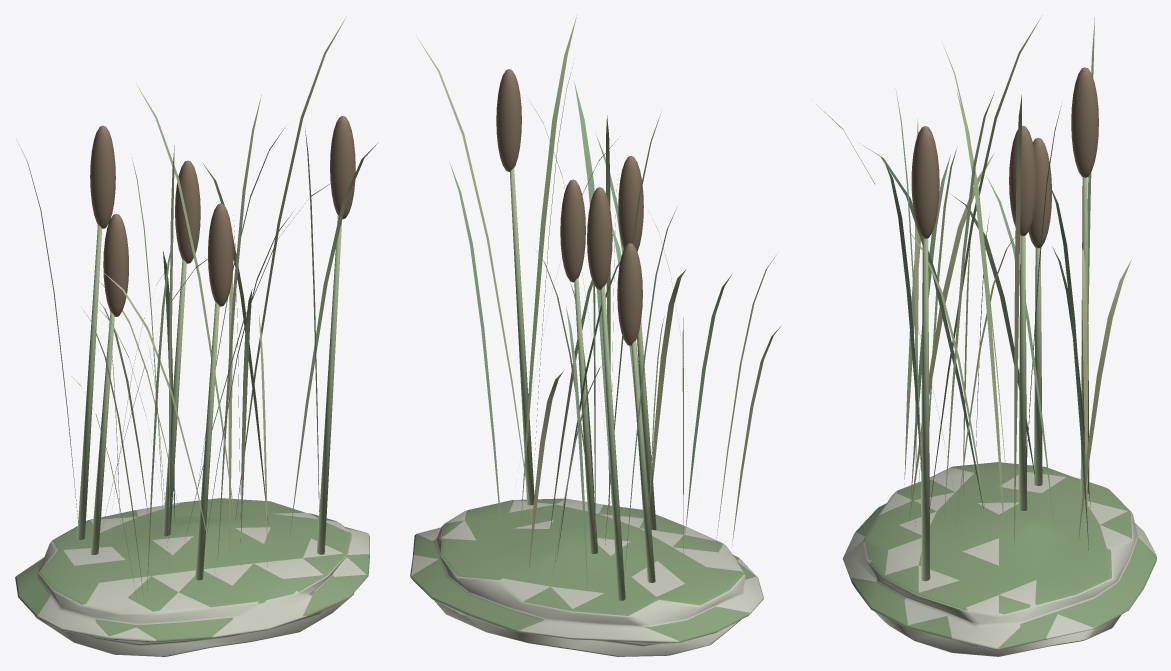
File: reeds.glb
3 renders of one model, left to right at view 1: azimuth 30°, elevation 25°; view 2: azimuth 150°, elevation 25°; view 3: azimuth 270°, elevation 25°, orthographic. The views are drawn at different scales.
Visible parts, largest first — view 1: Reed base, Cattail stalk.004, Cattail stalk.003, Cattail seed.003, Cattail seed.001, Cattail seed.002, Cattail seed.004, Cattail seed, Cattail stalk.001, Cattail stalk, Cattail stalk.002, Curved reed.016 (+12 smaller); view 2: Reed base, Cattail stalk.004, Cattail stalk.003, Cattail seed.004, Cattail seed, Cattail seed.002, Cattail seed.003, Curved reed.016, Cattail seed.001, Cattail stalk, Cattail stalk.002, Cattail stalk.001 (+11 smaller); view 3: Reed base, Cattail stalk.004, Cattail seed.003, Cattail seed.004, Cattail seed, Cattail stalk, Curved reed.002, Curved reed.022, Cattail stalk.002, Cattail seed.002, Cattail stalk.003, Curved reed.003 (+16 smaller).
Boxes of the visible parts, x1,y1,x2,y2 form: Reed base: (15,498,369,656); Cattail stalk.004: (317,215,341,554); Cattail stalk.003: (77,225,101,539); Cattail seed.003: (90,125,115,228); Cattail seed.001: (208,203,233,306); Cattail seed.002: (103,213,128,316); Cattail seed.004: (330,116,355,219); Cattail seed: (175,160,200,263); Cattail stalk.001: (195,302,219,580); Cattail stalk: (162,259,186,536); Cattail stalk.002: (90,311,114,554); Curved reed.016: (289,142,378,536); Reed base: (410,498,763,656); Cattail stalk.004: (510,168,534,505); Cattail stalk.003: (600,286,625,600); Cattail seed.004: (496,69,521,171); Cattail seed: (560,179,585,282); Cattail seed.002: (617,243,642,345); Cattail seed.003: (587,187,612,289); Curved reed.016: (521,15,576,517); Cattail seed.001: (618,156,643,251); Cattail stalk: (574,278,597,553); Cattail stalk.002: (631,340,655,582); Cattail stalk.001: (637,320,656,529); Reed base: (842,462,1156,656); Cattail stalk.004: (921,238,930,581); Cattail seed.003: (1071,67,1098,177); Cattail seed.004: (912,128,939,238); Cattail seed: (1009,125,1036,236); Cattail stalk: (1018,235,1027,510); Curved reed.002: (1014,94,1021,545); Curved reed.022: (956,89,1006,565); Cattail stalk.002: (1034,248,1042,485); Cattail seed.002: (1028,138,1051,248); Cattail stalk.003: (1080,177,1089,493); Curved reed.003: (1049,185,1088,550).
Size of the model in its own units: 0.7473 by 1.18 by 0.6231.
